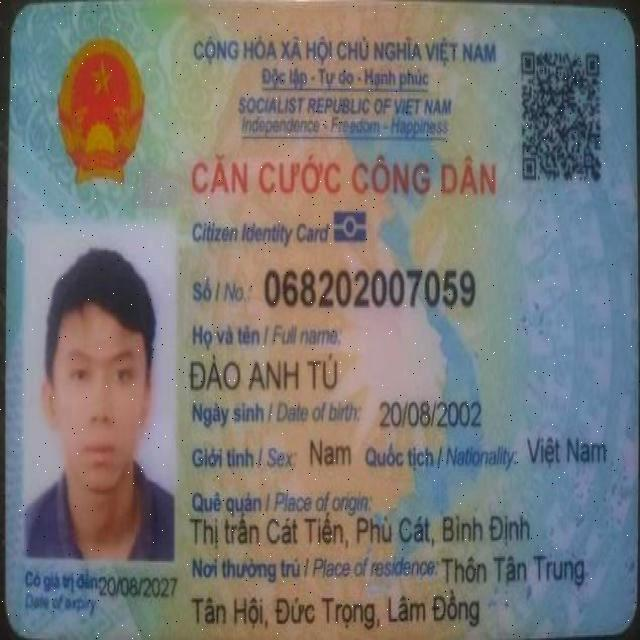current_place: (183, 583, 496, 633), (434, 546, 596, 591)
dob: (373, 385, 483, 425)
expire_date: (98, 563, 186, 598)
gender: (302, 432, 358, 471)
id: (252, 249, 473, 304)
name: (184, 336, 440, 381)
nationality: (519, 428, 614, 469)
origin_place: (180, 503, 537, 553)
